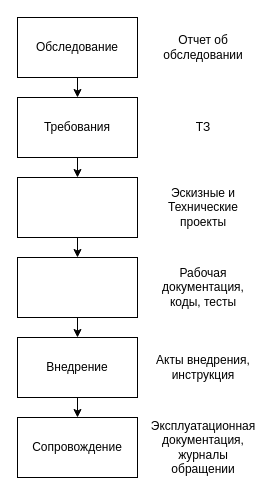
The diagram is 273 pixels wide and 495 high, and some of its shapes have lost their labels. The centre of each missing label's shape, as x and y in pixels:
Проектирование: the point at 77,207
Разработка и тестирование: the point at 77,287
